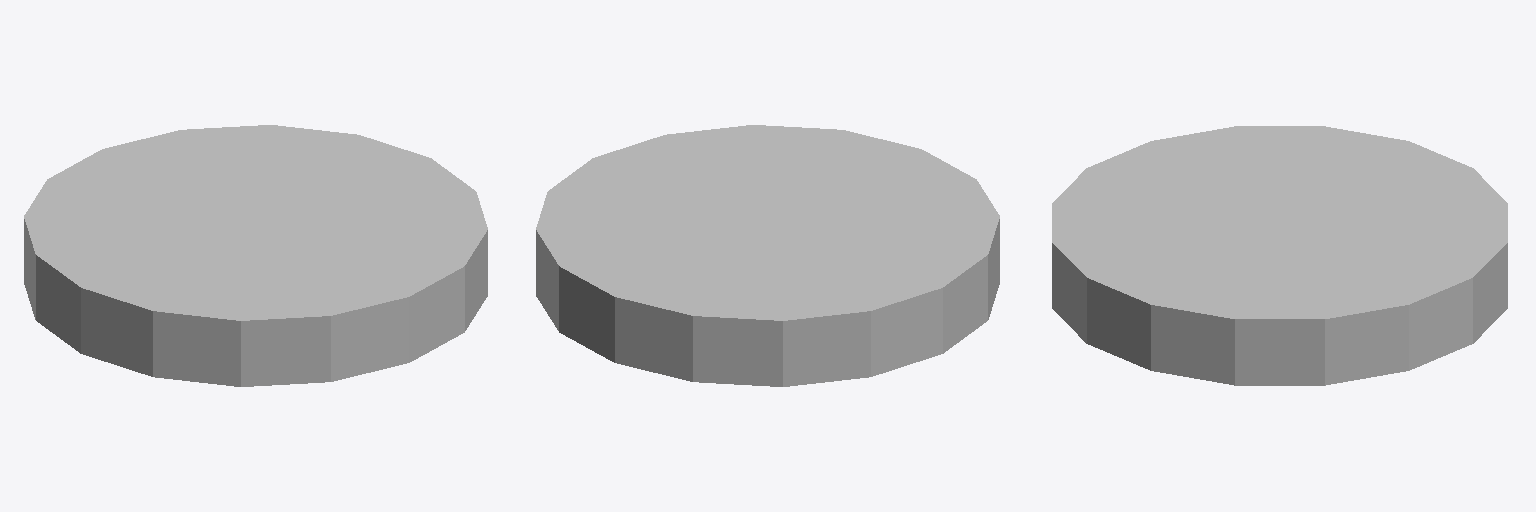
Rendered from Knight_Fairing_A_Collider.obj.
The picture shows the model from 3 angles: view 1: azimuth 30°, elevation 25°; view 2: azimuth 150°, elevation 25°; view 3: azimuth 270°, elevation 25°; orthographic projection.
Visible parts, largest first — view 1: Knight_Fairing_A_Collider; view 2: Knight_Fairing_A_Collider; view 3: Knight_Fairing_A_Collider.
Boxes of the visible parts, x1,y1,x2,y2 form: Knight_Fairing_A_Collider: [24, 125, 487, 386]; Knight_Fairing_A_Collider: [536, 125, 999, 386]; Knight_Fairing_A_Collider: [1052, 126, 1507, 385].
Size of the model in its own units: 0.9375 by 0.15 by 0.9375.